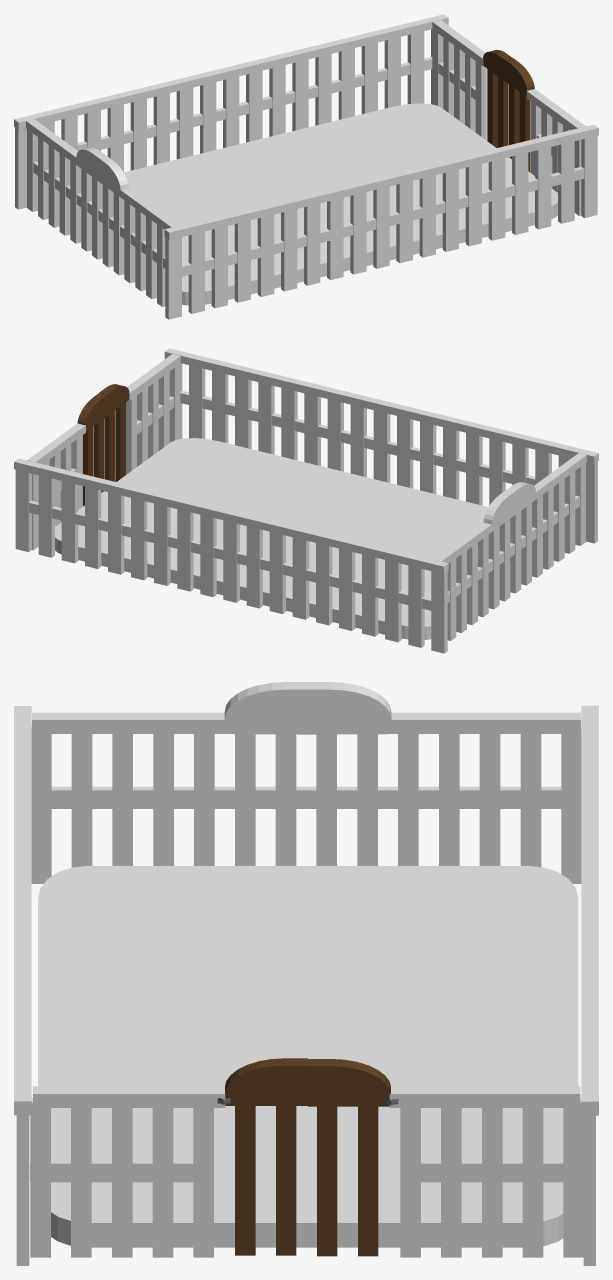
Rendered from Crib002.fbx.
3 views of the same model, one above another, from view 1: azimuth 30°, elevation 25°; view 2: azimuth 150°, elevation 25°; view 3: azimuth 270°, elevation 25° (orthographic). The views are drawn at different scales.
Parts seen in each view (by area): view 1: Bed, Cube.009, Cube.008; view 2: Bed, Cube.008, Cube.009; view 3: Bed, Cube.009, Cube.008.
Boxes of the visible parts, bbox=[...] form: Bed: bbox=[14, 14, 598, 319]; Cube.009: bbox=[483, 50, 511, 147]; Cube.008: bbox=[505, 58, 534, 172]; Bed: bbox=[14, 348, 598, 653]; Cube.008: bbox=[99, 384, 129, 481]; Cube.009: bbox=[77, 392, 107, 506]; Bed: bbox=[14, 682, 598, 1265]; Cube.009: bbox=[308, 1059, 397, 1256]; Cube.008: bbox=[217, 1058, 307, 1255].
Bounding box in the file's own units: 1123 × 260 × 702.
